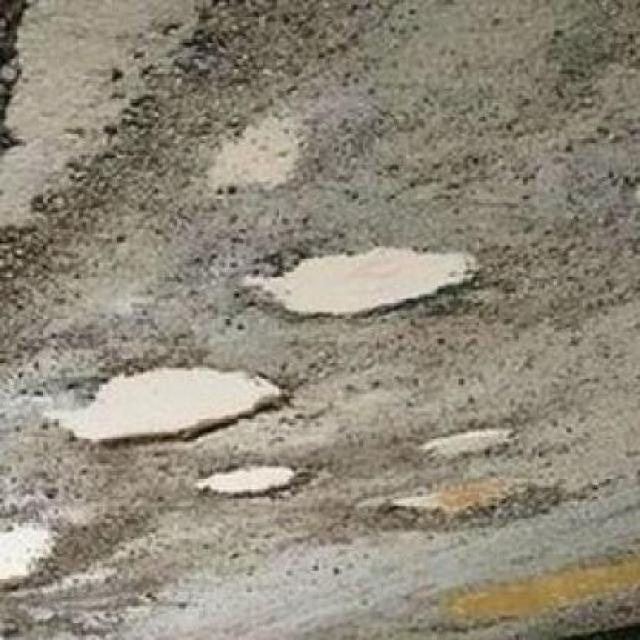pothole: (229, 243, 489, 337), (46, 361, 292, 456), (429, 557, 640, 635), (198, 110, 320, 218), (379, 476, 564, 544), (2, 513, 72, 607), (193, 464, 330, 508), (415, 416, 523, 470)
